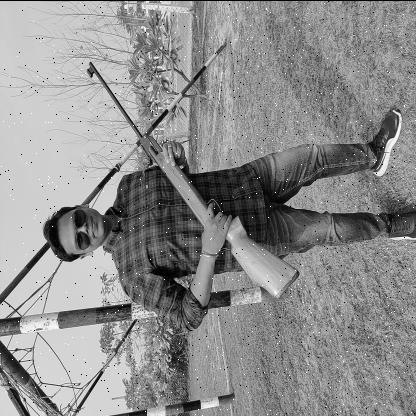rifle: (84, 60, 302, 302)
